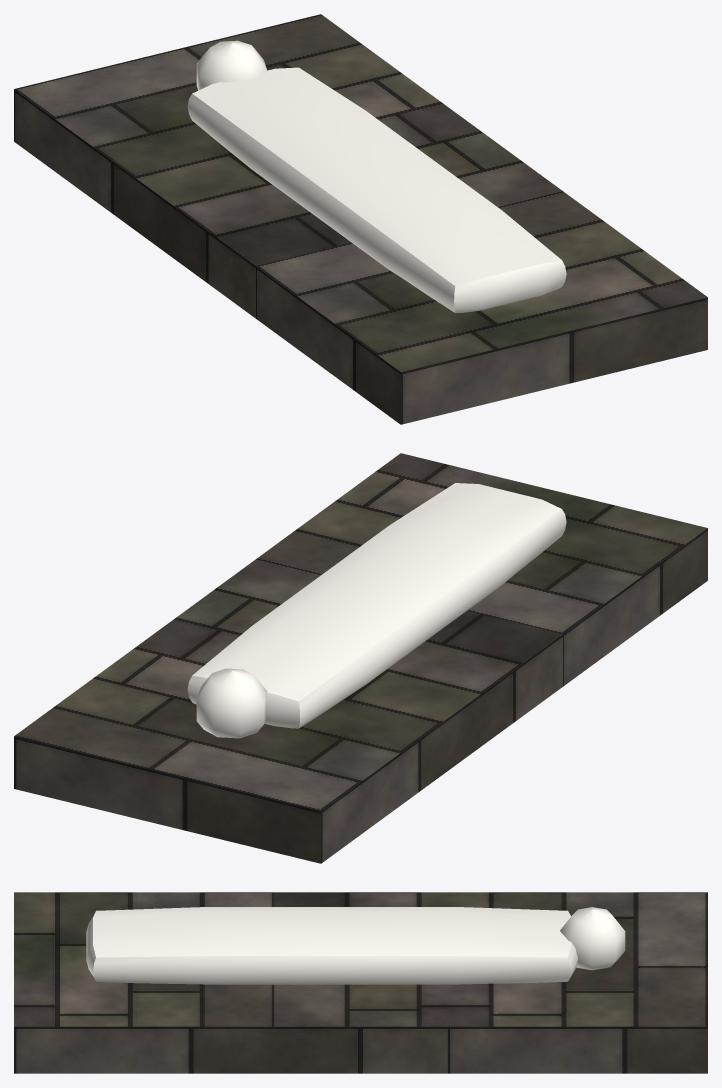
File: sarc_lid.glb
3 renders of one model, top to bottom at view 1: azimuth 30°, elevation 25°; view 2: azimuth 150°, elevation 25°; view 3: azimuth 270°, elevation 25°, orthographic. The views are drawn at different scales.
Parts seen in each view (by area): view 1: sarc_lid; view 2: sarc_lid; view 3: sarc_lid.
Part boxes in pixels (x1,y1,x2,y2): sarc_lid: [14, 14, 707, 424]; sarc_lid: [14, 453, 707, 863]; sarc_lid: [14, 892, 707, 1073].
Size of the model in its own units: 1.1 by 0.37 by 2.4.
2 materials, 1 textured.
